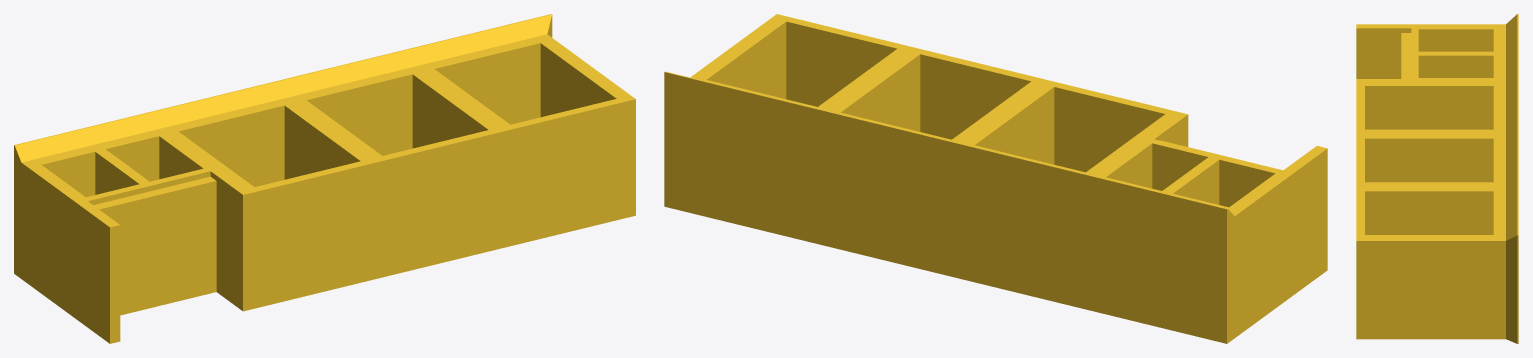
File: upper_cabinet_main_body.dae
3 renders of one model, left to right at view 1: azimuth 30°, elevation 25°; view 2: azimuth 150°, elevation 25°; view 3: azimuth 270°, elevation 25°, orthographic. The views are drawn at different scales.
Visible parts, largest first — view 1: node0; view 2: node0; view 3: node0.
Part boxes in pixels (left/top/right/bottom): node0: left=14, top=14, right=635, bottom=343; node0: left=664, top=14, right=1327, bottom=343; node0: left=1356, top=14, right=1518, bottom=343.
Size of the model in its own units: 2.67 by 0.8255 by 0.6096.
